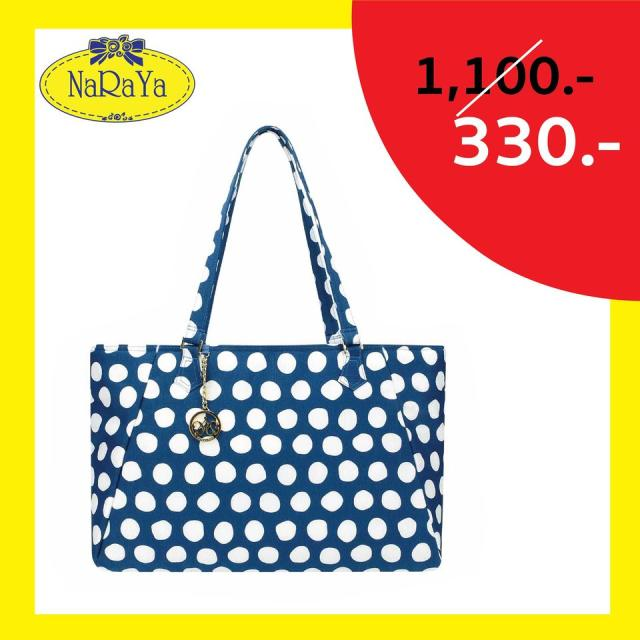Handbag: (91, 126, 446, 573)
